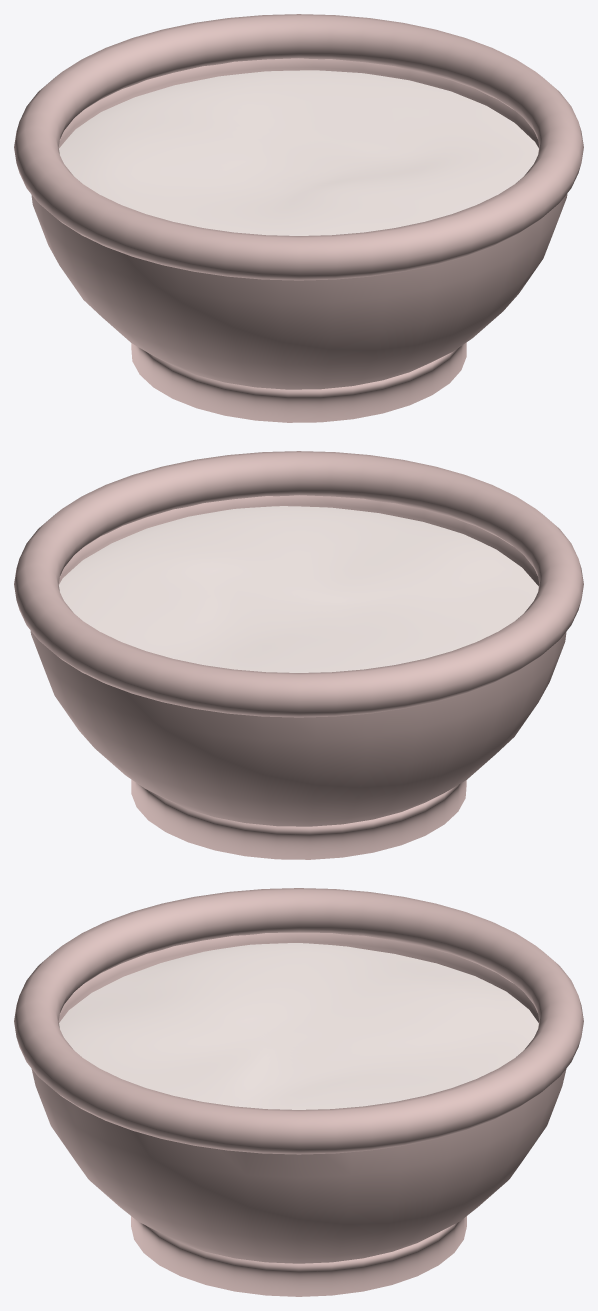
Rendered from milkbowl.fbx.
The picture shows the model from 3 angles, top to bottom: view 1: azimuth 30°, elevation 25°; view 2: azimuth 150°, elevation 25°; view 3: azimuth 270°, elevation 25°; orthographic projection.
Visible parts, largest first — view 1: Cylinder.032, Sphere.077; view 2: Cylinder.032, Sphere.077; view 3: Cylinder.032, Sphere.077.
Part boxes in pixels (x1=…): Cylinder.032: x1=14, y1=14, x2=583, y2=422; Sphere.077: x1=59, y1=70, x2=538, y2=235; Cylinder.032: x1=14, y1=451, x2=583, y2=859; Sphere.077: x1=59, y1=506, x2=538, y2=672; Cylinder.032: x1=14, y1=888, x2=583, y2=1296; Sphere.077: x1=59, y1=943, x2=538, y2=1109.
Size of the model in its own units: 208 by 96.31 by 208.
